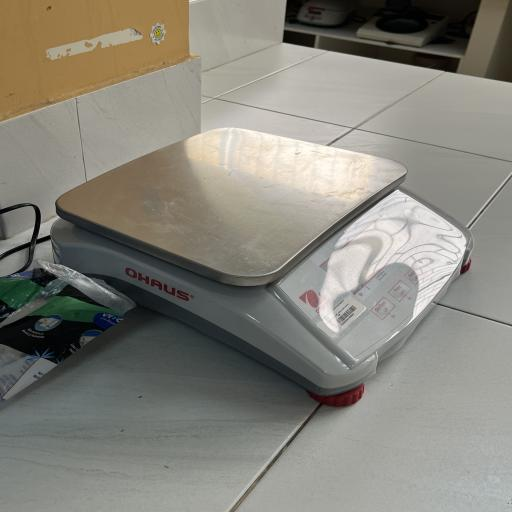Balanza_Granataria_Ohaus: (37, 120, 488, 421)
